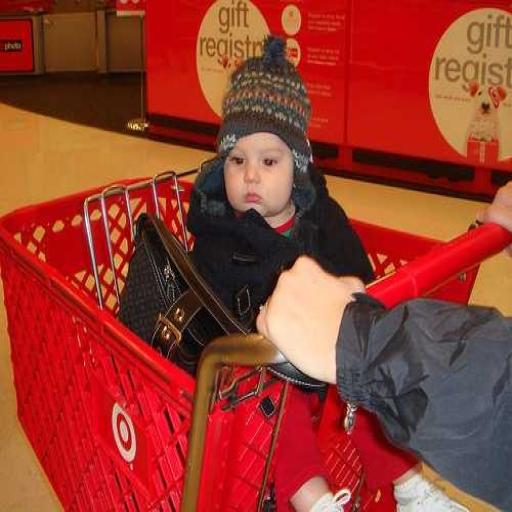shopping_cart: (0, 156, 512, 511)
